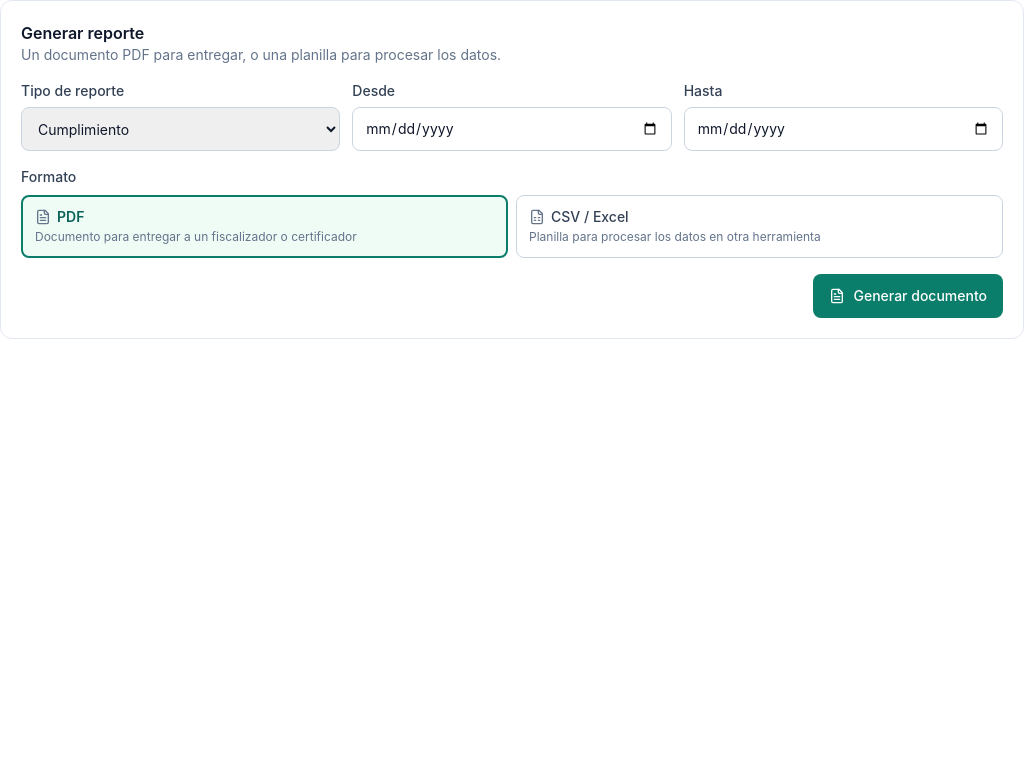
it: el documento › cambiar de tipo descarta el documento ya generado
Click the button "Generar documento".
click(908, 296)  # box [813,274,1003,318]
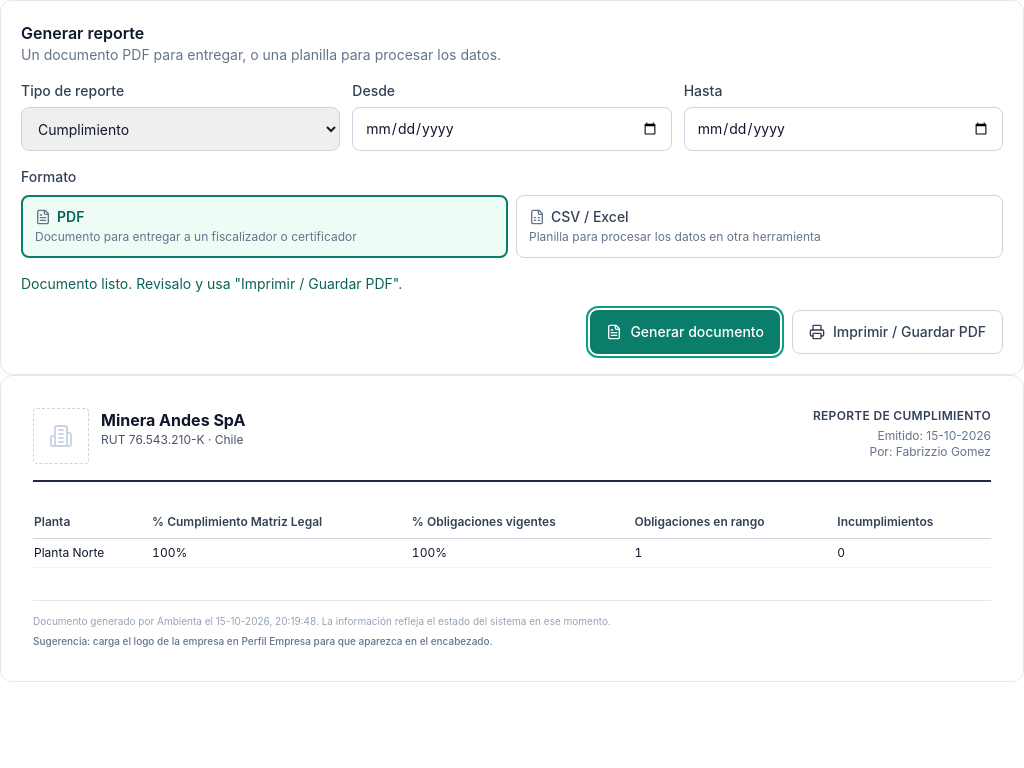
Select "Matriz Legal" in the dropdown labelled "Tipo de reporte" at (181, 129), box [21,107,340,151]
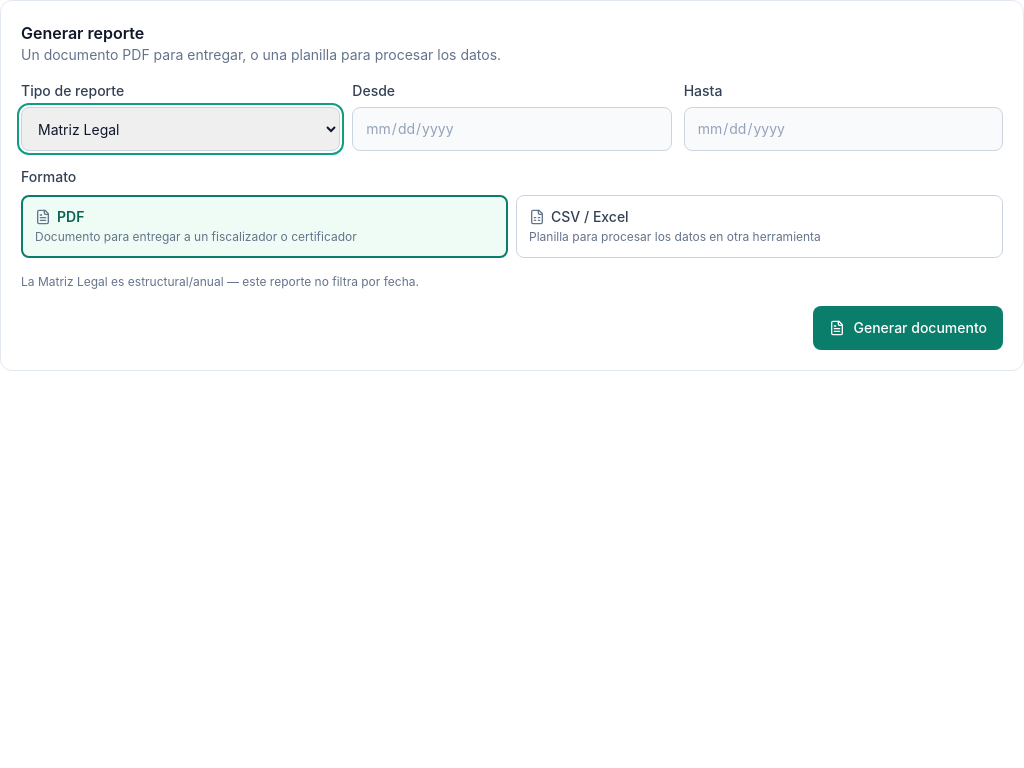
Check: the message "Imprimir . Guardar PDF" is gone
